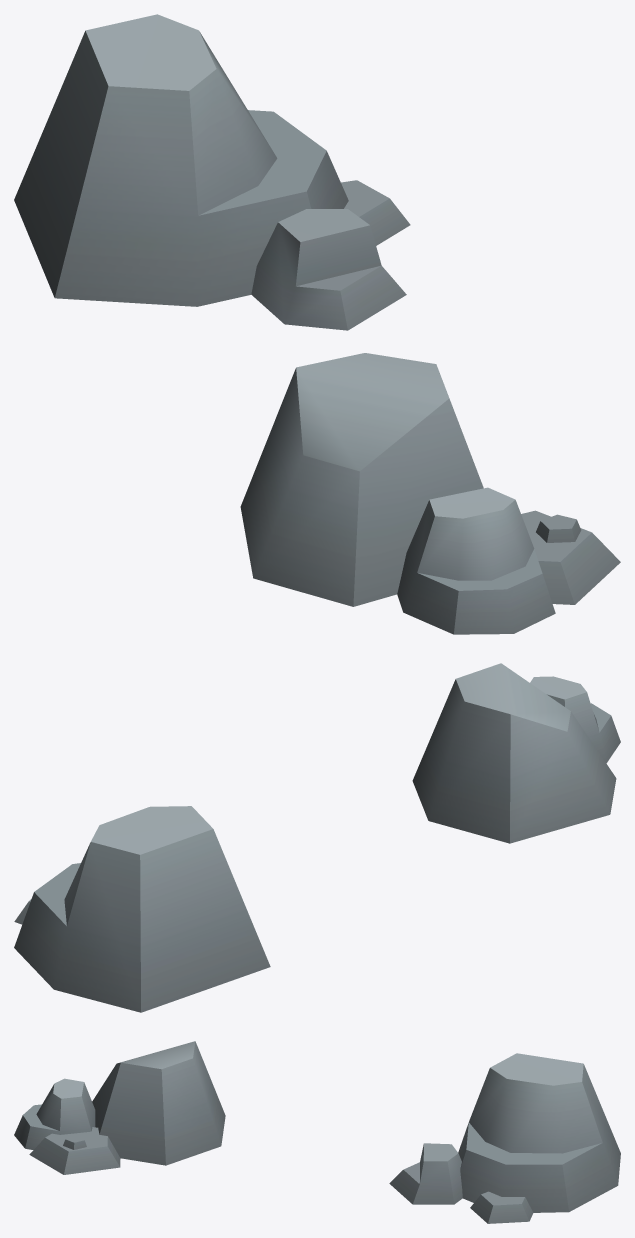
Rendered from rocks.glb.
3 renders of one model, top to bottom at view 1: azimuth 30°, elevation 25°; view 2: azimuth 150°, elevation 25°; view 3: azimuth 270°, elevation 25°, orthographic. The views are drawn at different scales.
Parts seen in each view (by area): view 1: rock_single_A; view 2: rock_single_A; view 3: rock_single_A.
Part boxes in pixels (box(x1,y1,x2,y2)): rock_single_A: box(14, 14, 620, 634); rock_single_A: box(14, 663, 620, 1012); rock_single_A: box(14, 1041, 620, 1223).
Bounding box in the file's own units: 19.46 × 7.21 × 39.98.
1 material, 1 textured.
